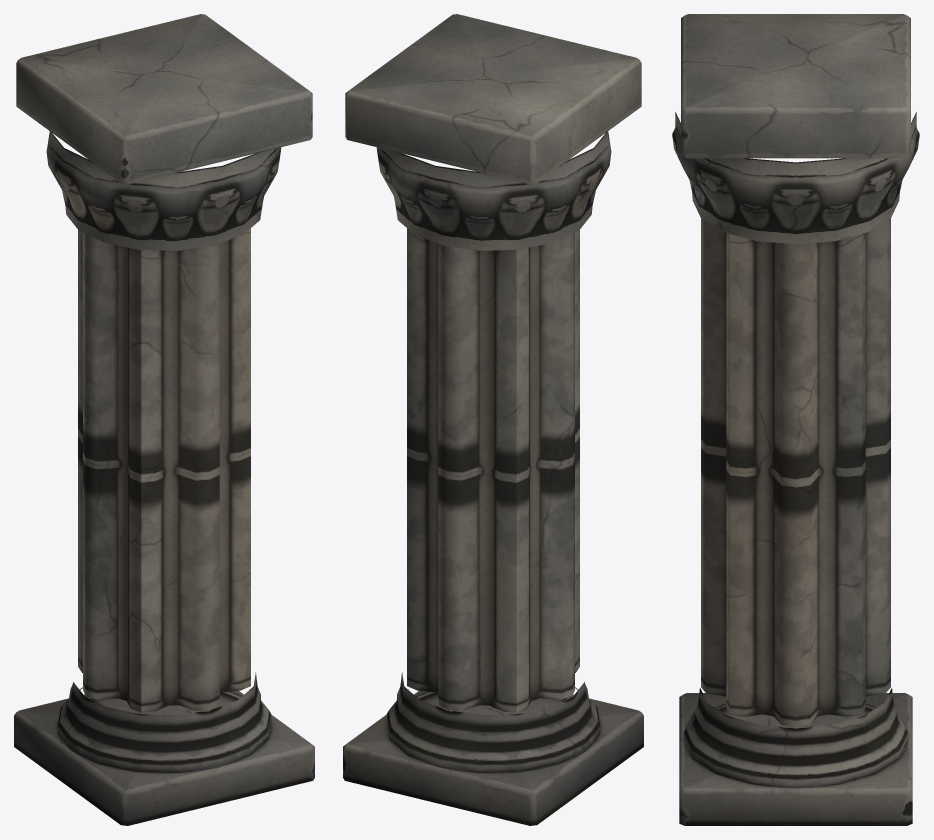
Rendered from cathedral_pillar.glb.
The picture shows the model from 3 angles, left to right: view 1: azimuth 30°, elevation 25°; view 2: azimuth 150°, elevation 25°; view 3: azimuth 270°, elevation 25°; orthographic projection. The views are drawn at different scales.
Visible parts, largest first — view 1: cathedral_pillar; view 2: cathedral_pillar; view 3: cathedral_pillar.
Boxes of the visible parts, bbox=[...] form: cathedral_pillar: bbox=[14, 14, 314, 825]; cathedral_pillar: bbox=[343, 14, 643, 825]; cathedral_pillar: bbox=[672, 14, 919, 825].
Bounding box in the file's own units: 1.38 × 4.4 × 1.38.
Materials: 1 (1 with a texture image).
